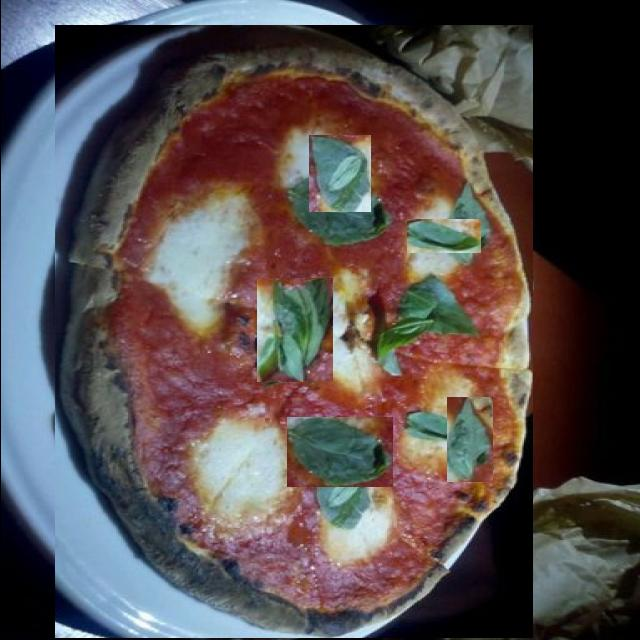basil: (256, 278, 332, 382), (286, 417, 392, 487), (399, 325, 482, 389), (308, 135, 370, 212), (446, 397, 492, 482), (374, 300, 434, 346), (406, 219, 480, 253)
pizza: (54, 25, 532, 638)
